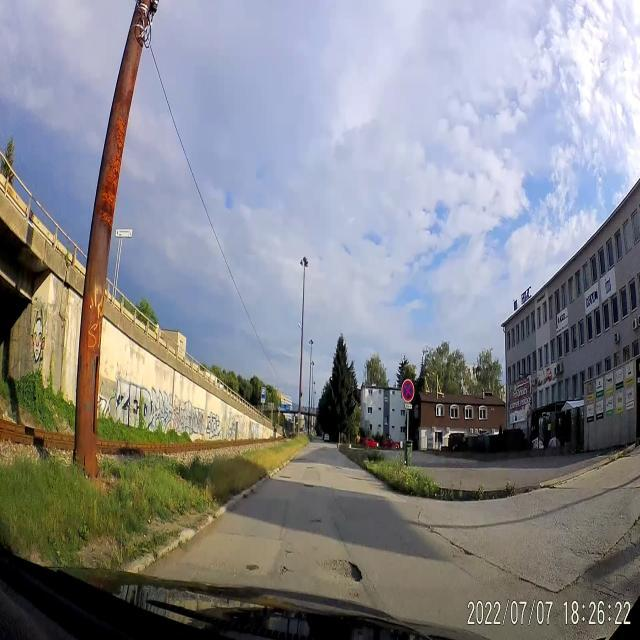Pothole: (314, 552, 364, 591), (278, 561, 295, 580), (458, 544, 474, 562), (310, 508, 323, 528), (304, 478, 314, 491)
